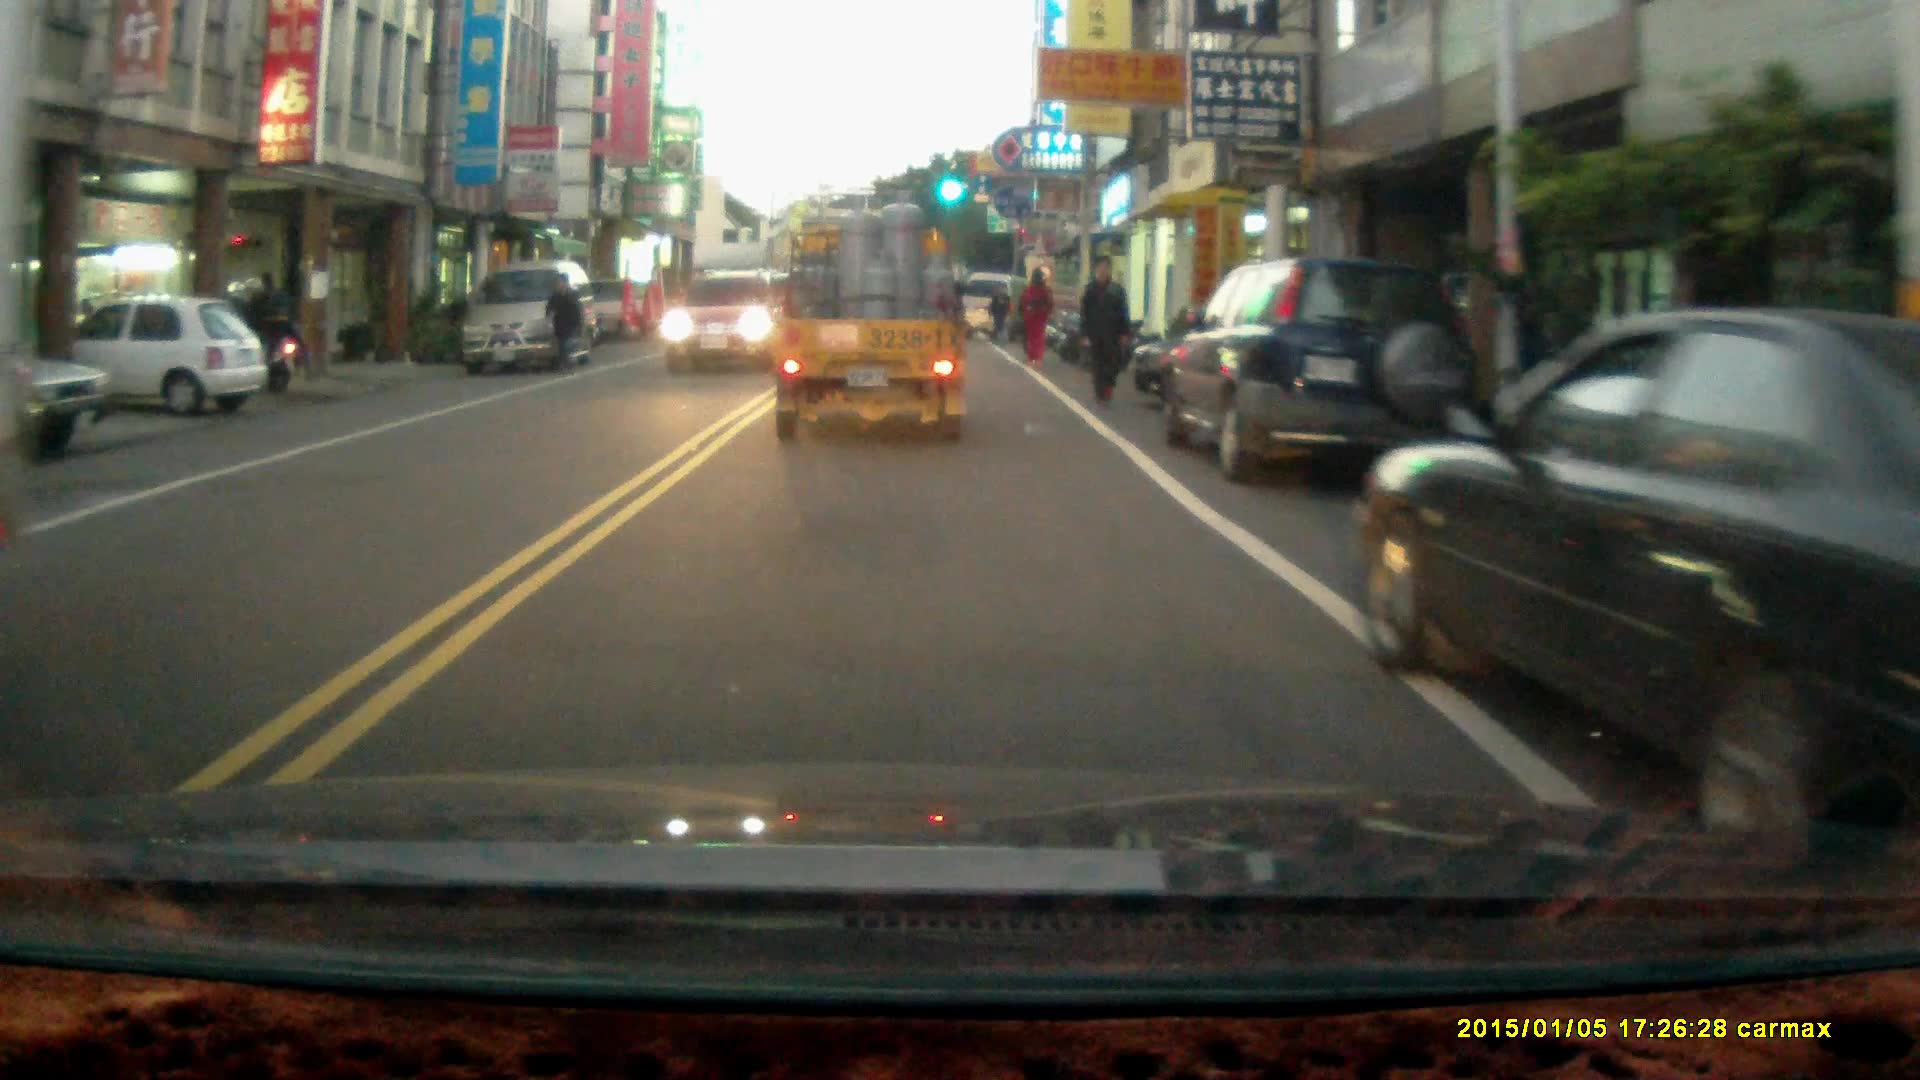pedestrian: (1076, 254, 1135, 413), (260, 267, 306, 393), (542, 272, 586, 375), (1015, 266, 1053, 369), (986, 286, 1012, 345)
rider: (209, 279, 295, 397)
vehicle: (1349, 310, 1920, 808), (1166, 258, 1478, 487), (773, 194, 970, 447), (11, 294, 255, 418), (461, 260, 597, 373), (659, 277, 782, 378)
